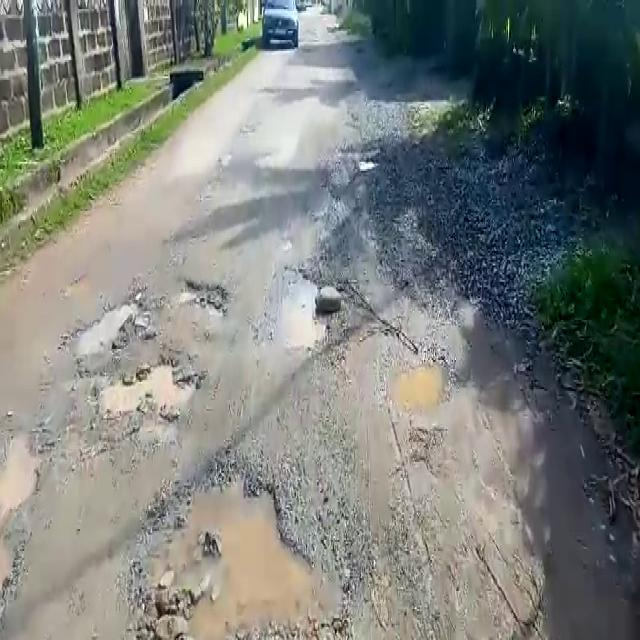Pothole: (130, 464, 365, 634), (65, 288, 147, 360), (110, 360, 200, 417), (267, 270, 326, 352), (386, 350, 453, 416), (0, 433, 42, 524), (176, 276, 232, 314), (0, 528, 17, 608)
